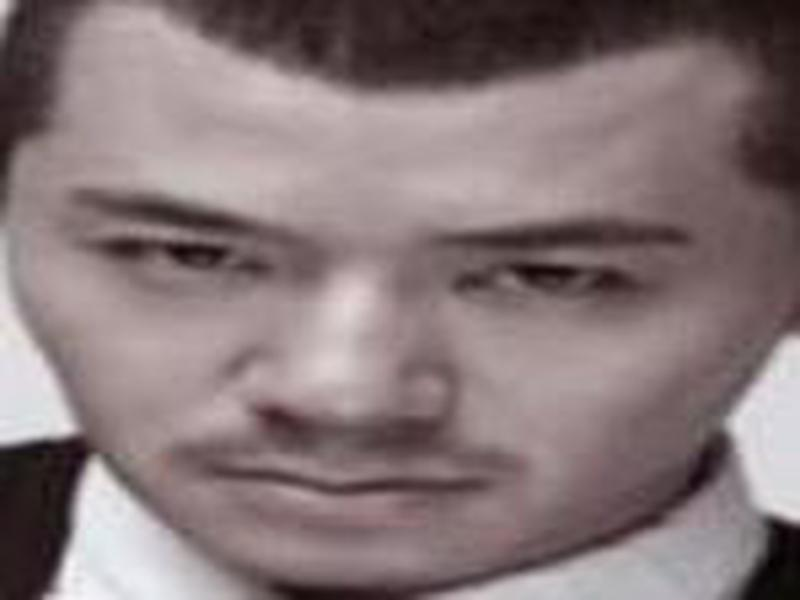without_mask: (23, 21, 768, 587)
